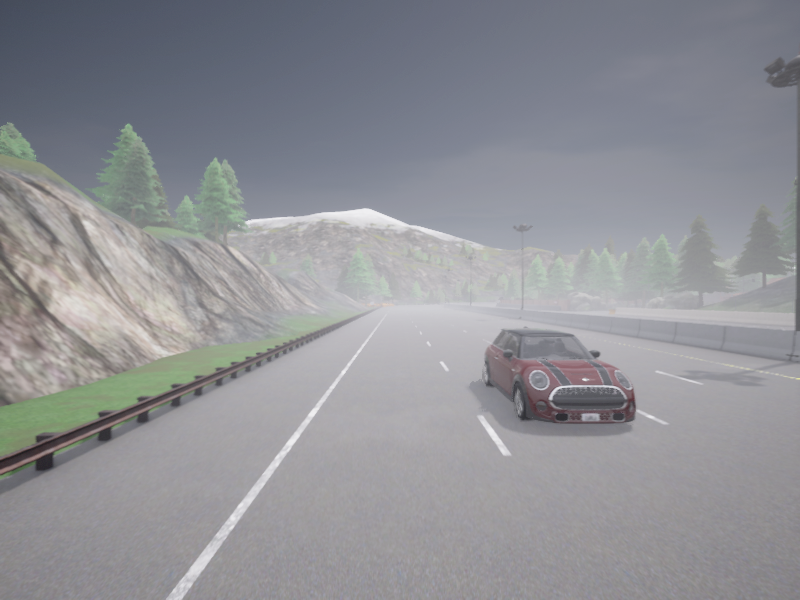vehicle: (483, 325, 635, 423), (499, 297, 512, 302)
